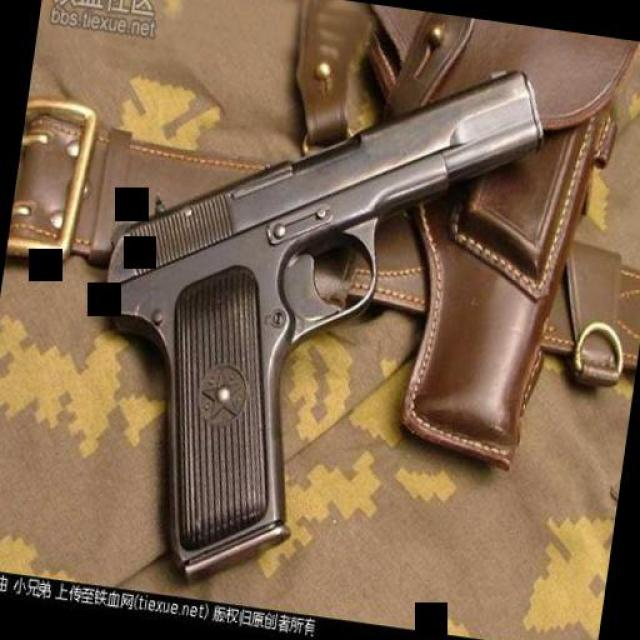gun: (55, 6, 554, 619)
